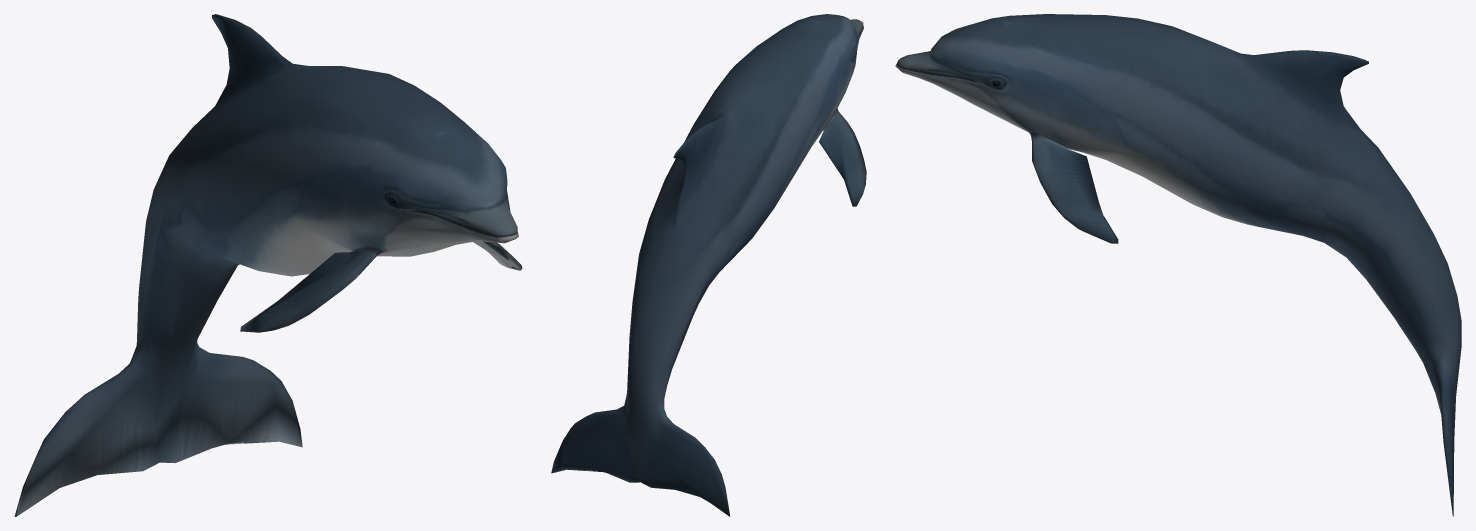
The model's file is dolphin.glb.
3 renders of one model, left to right at view 1: azimuth 30°, elevation 25°; view 2: azimuth 150°, elevation 25°; view 3: azimuth 270°, elevation 25°, orthographic. The views are drawn at different scales.
Visible parts, largest first — view 1: 10014_dolphin_v2_max2011_it2; view 2: 10014_dolphin_v2_max2011_it2; view 3: 10014_dolphin_v2_max2011_it2.
Boxes of the visible parts, x1,y1,x2,y2 form: 10014_dolphin_v2_max2011_it2: (14,14,522,516); 10014_dolphin_v2_max2011_it2: (551,14,866,516); 10014_dolphin_v2_max2011_it2: (895,14,1461,516).
Bounding box in the file's own units: 6.59 × 12.19 × 14.22.
1 material, 1 textured.
